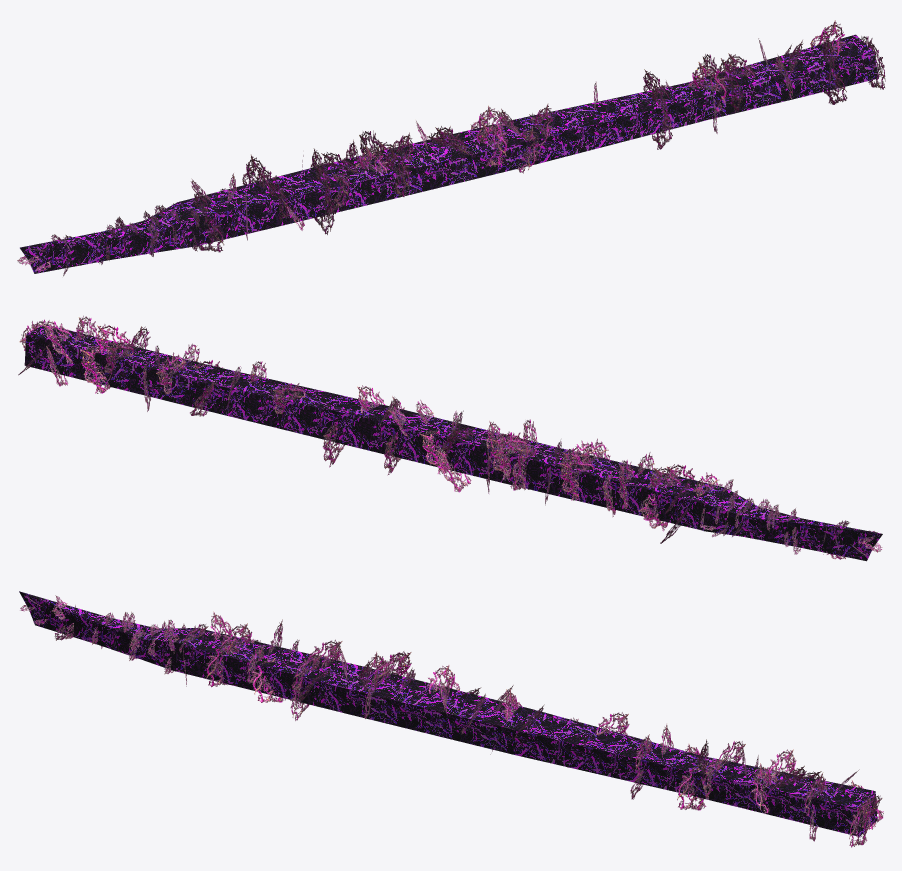
File: ronces.fbx
The picture shows the model from 3 angles, top to bottom: view 1: azimuth 30°, elevation 25°; view 2: azimuth 150°, elevation 25°; view 3: azimuth 330°, elevation 25°; orthographic projection.
Parts seen in each view (by area): view 1: Cube.002, Cube.001, Cube.002|vines|Dupli|13, Cube.002|vines|Dupli|27, Cube.002|vines|Dupli|58; view 2: Cube.002, Cube.001, Cube.002|vines|Dupli|8, Cube.002|vines|Dupli|43, Cube.002|vines|Dupli|26, Cube.002|vines|Dupli|45, Cube.002|vines|Dupli|10, Cube.002|vines|Dupli|44, Cube.002|vines|Dupli|48, Cube.002|vines|Dupli|16, Cube.002|vines|Dupli|14; view 3: Cube.002, Cube.001, Cube.002|vines|Dupli|55, Cube.002|vines|Dupli|5, Cube.002|vines|Dupli|1, Cube.002|vines|Dupli|4.
Part boxes in pixels (left/top/right/bottom): Cube.002: left=178, top=34, right=878, bottom=245; Cube.001: left=20, top=202, right=199, bottom=273; Cube.002|vines|Dupli|13: left=688, top=62, right=727, bottom=112; Cube.002|vines|Dupli|27: left=476, top=122, right=508, bottom=166; Cube.002|vines|Dupli|58: left=385, top=146, right=410, bottom=196; Cube.002: left=24, top=324, right=724, bottom=530; Cube.001: left=703, top=487, right=882, bottom=561; Cube.002|vines|Dupli|8: left=80, top=346, right=111, bottom=393; Cube.002|vines|Dupli|43: left=559, top=456, right=595, bottom=500; Cube.002|vines|Dupli|26: left=490, top=432, right=528, bottom=480; Cube.002|vines|Dupli|45: left=510, top=442, right=536, bottom=490; Cube.002|vines|Dupli|10: left=156, top=352, right=186, bottom=394; Cube.002|vines|Dupli|44: left=436, top=447, right=471, bottom=492; Cube.002|vines|Dupli|48: left=420, top=430, right=450, bottom=474; Cube.002|vines|Dupli|16: left=95, top=324, right=130, bottom=351; Cube.002|vines|Dupli|14: left=41, top=321, right=72, bottom=363; Cube.002: left=176, top=628, right=877, bottom=836; Cube.001: left=19, top=591, right=197, bottom=671; Cube.002|vines|Dupli|55: left=206, top=639, right=238, bottom=687; Cube.002|vines|Dupli|5: left=677, top=762, right=708, bottom=810; Cube.002|vines|Dupli|1: left=849, top=798, right=870, bottom=847; Cube.002|vines|Dupli|4: left=751, top=763, right=777, bottom=813.
Bounding box in the file's own units: 968 × 97.66 × 113.
2 materials, 2 textured.
